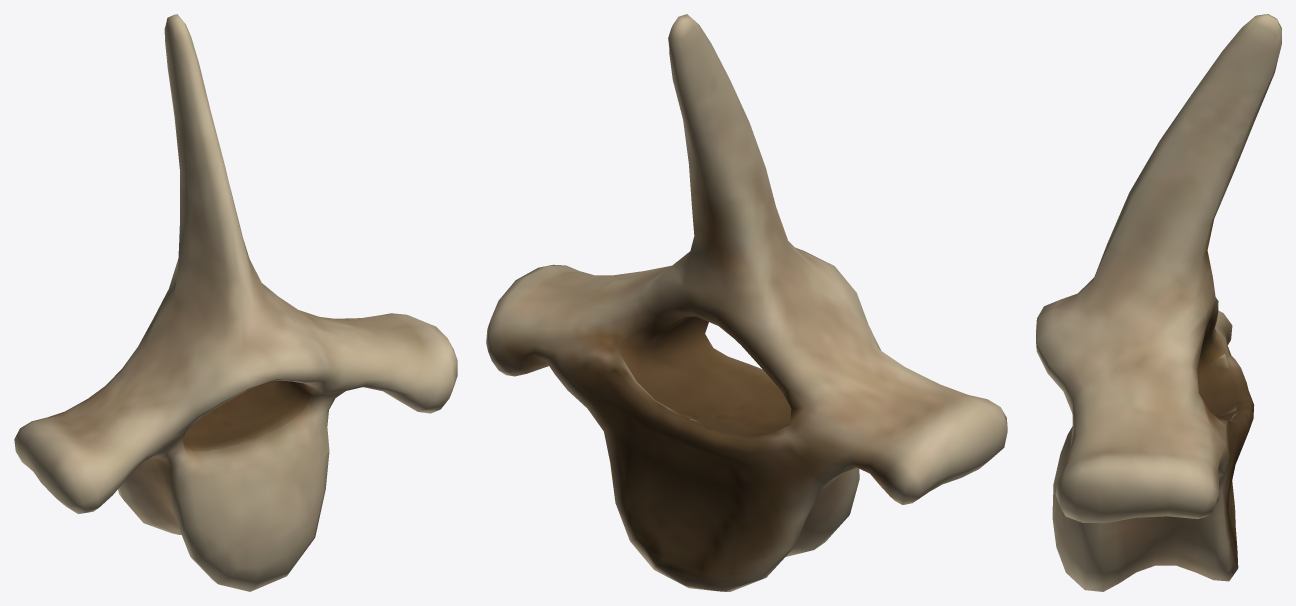
The model's file is Thoracic_Vertebrae.glb.
3 views of the same model, side by side, from view 1: azimuth 30°, elevation 25°; view 2: azimuth 150°, elevation 25°; view 3: azimuth 270°, elevation 25° (orthographic). The views are drawn at different scales.
Visible parts, largest first — view 1: Horse_low:SelSet_44Merged_L_Frt_Sesamoid_Bones_2; view 2: Horse_low:SelSet_44Merged_L_Frt_Sesamoid_Bones_2; view 3: Horse_low:SelSet_44Merged_L_Frt_Sesamoid_Bones_2.
Boxes of the visible parts, <box> form: Horse_low:SelSet_44Merged_L_Frt_Sesamoid_Bones_2: <box>14,14,457,591</box>; Horse_low:SelSet_44Merged_L_Frt_Sesamoid_Bones_2: <box>486,14,1007,591</box>; Horse_low:SelSet_44Merged_L_Frt_Sesamoid_Bones_2: <box>1036,14,1281,591</box>.
Size of the model in its own units: 0.1503 by 0.1842 by 0.0721.
Materials: 1 (1 with a texture image).
